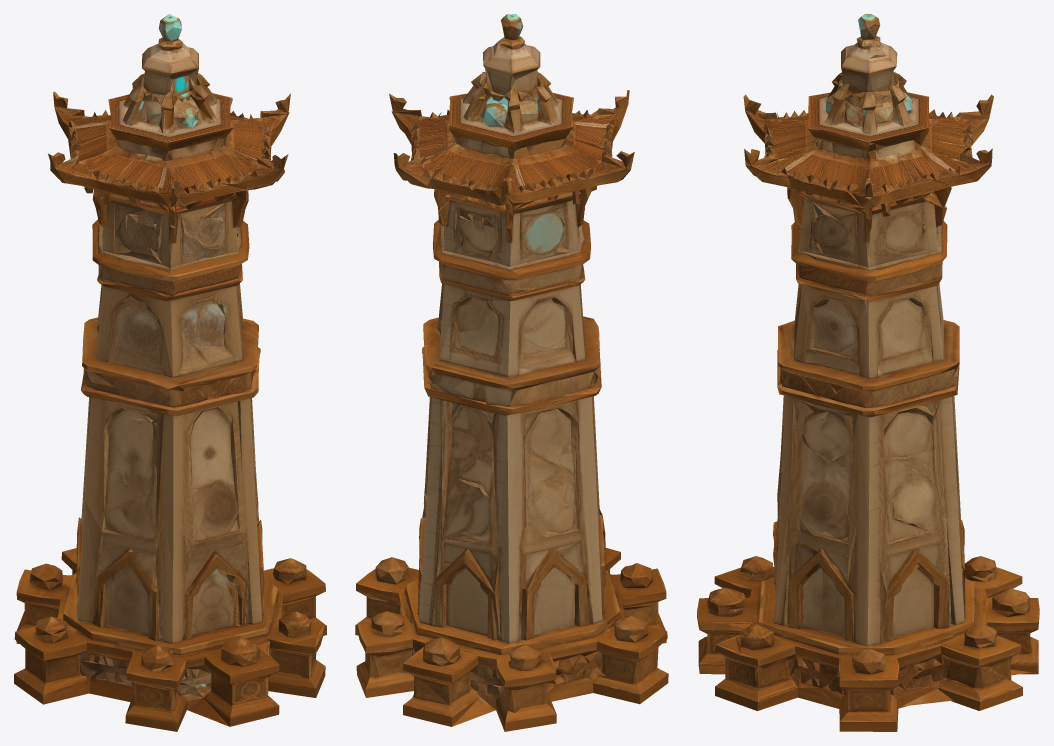
The model's file is towerDiwata.glb.
3 views of the same model, side by side, from view 1: azimuth 30°, elevation 25°; view 2: azimuth 150°, elevation 25°; view 3: azimuth 270°, elevation 25° (orthographic).
Parts seen in each view (by area): view 1: mesh_node; view 2: mesh_node; view 3: mesh_node.
Boxes of the visible parts, x1,y1,x2,y2 form: mesh_node: [14, 14, 326, 731]; mesh_node: [355, 14, 668, 731]; mesh_node: [697, 14, 1039, 731].
Size of the model in its own units: 0.882 by 1.9 by 0.9114.
1 material, 1 textured.
